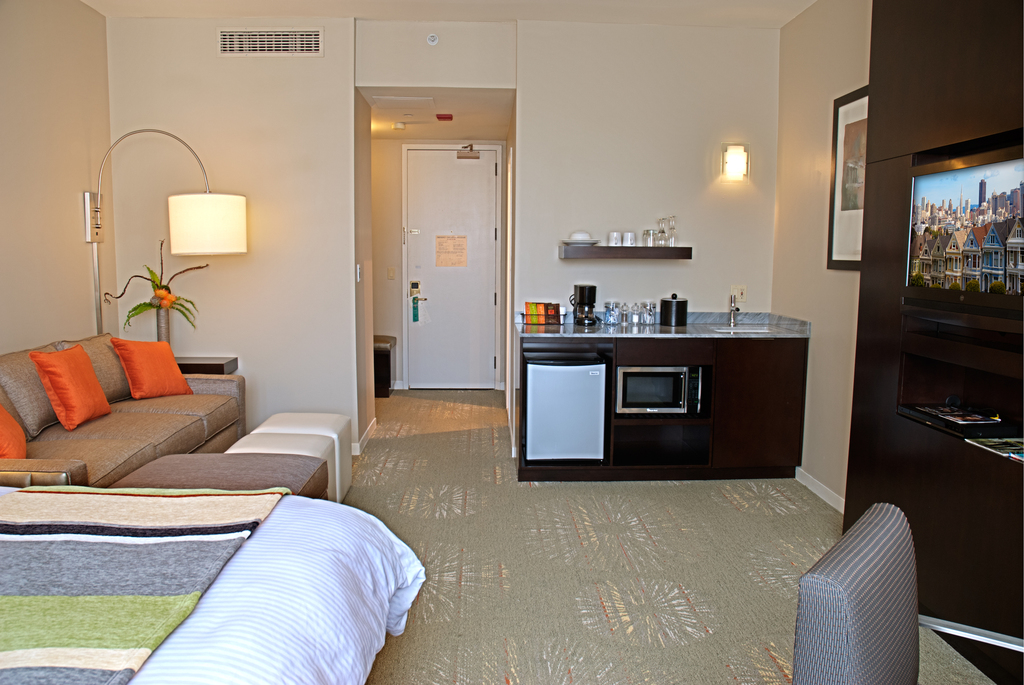Cabinetry: (623, 337, 810, 476)
